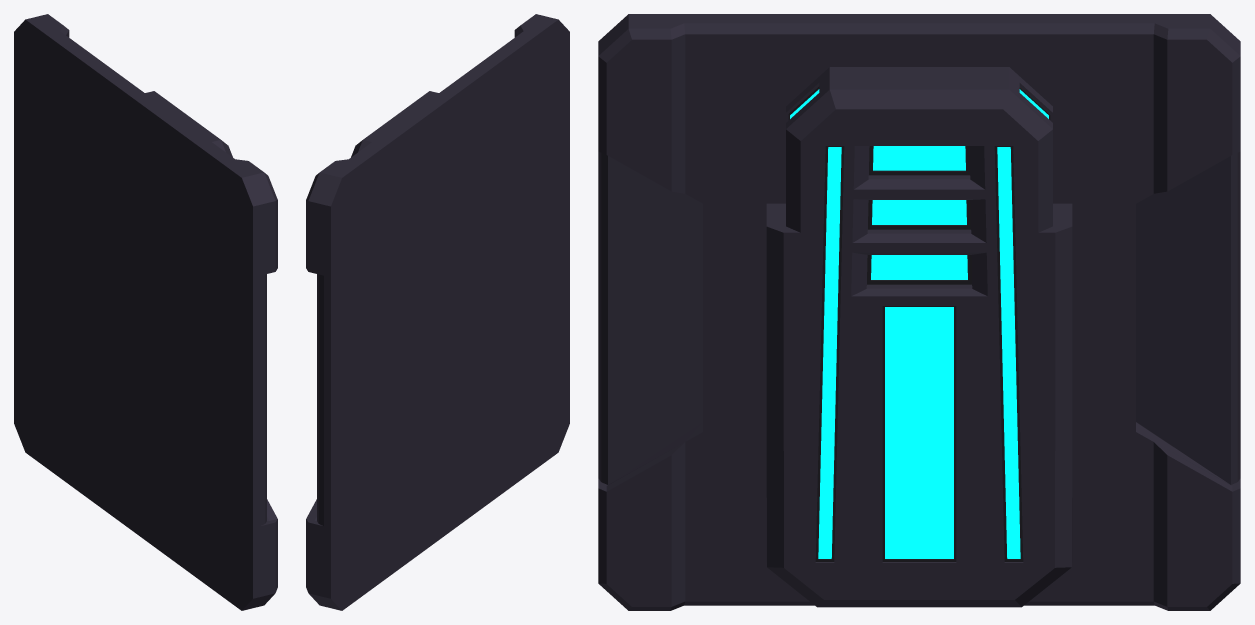
File: SM_Wall_Deco_Panel_02.fbx
3 views of the same model, side by side, from view 1: azimuth 30°, elevation 25°; view 2: azimuth 150°, elevation 25°; view 3: azimuth 270°, elevation 25° (orthographic). The views are drawn at different scales.
Parts seen in each view (by area): view 1: SM_Wall_Deco_Panel_02; view 2: SM_Wall_Deco_Panel_02; view 3: SM_Wall_Deco_Panel_02.
Part boxes in pixels (x1,y1,x2,y2): SM_Wall_Deco_Panel_02: (14, 14, 277, 610); SM_Wall_Deco_Panel_02: (306, 14, 569, 610); SM_Wall_Deco_Panel_02: (598, 14, 1240, 610).
Bounding box in the file's own units: 27.76 × 180 × 180.
